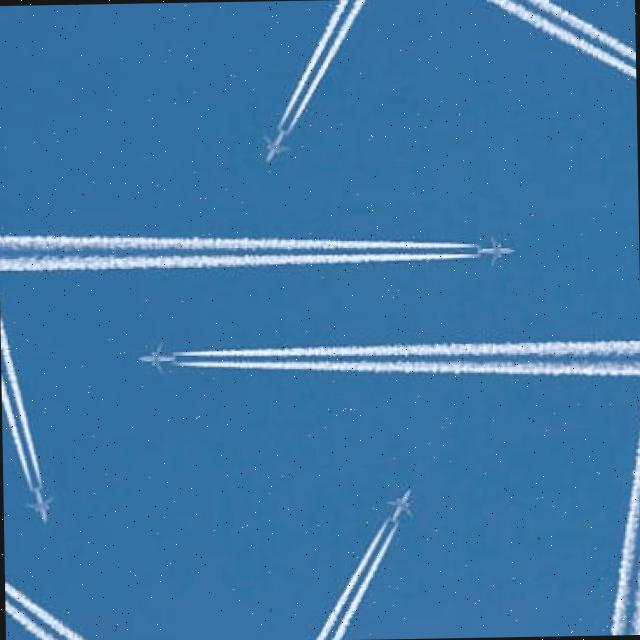Ct: (1, 10, 640, 640)
